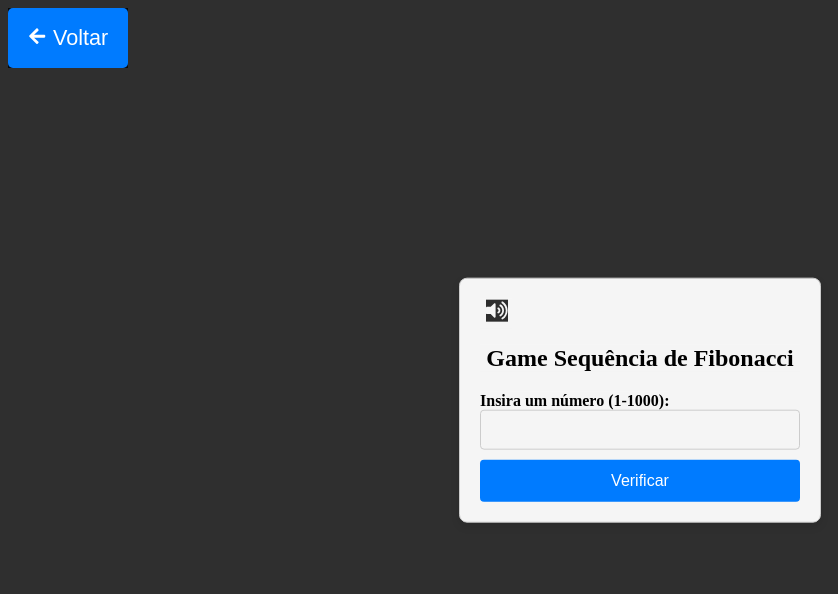
Fibonacci Page › should show the message: O número não está na sequência de fibonacci, when entering an non fibonacci number in the input
The width and height of the screenshot is (838, 594).
Type "15" into the number field labelled "Insira um número (1-1000):" at (640, 429), box [480,409,800,449]
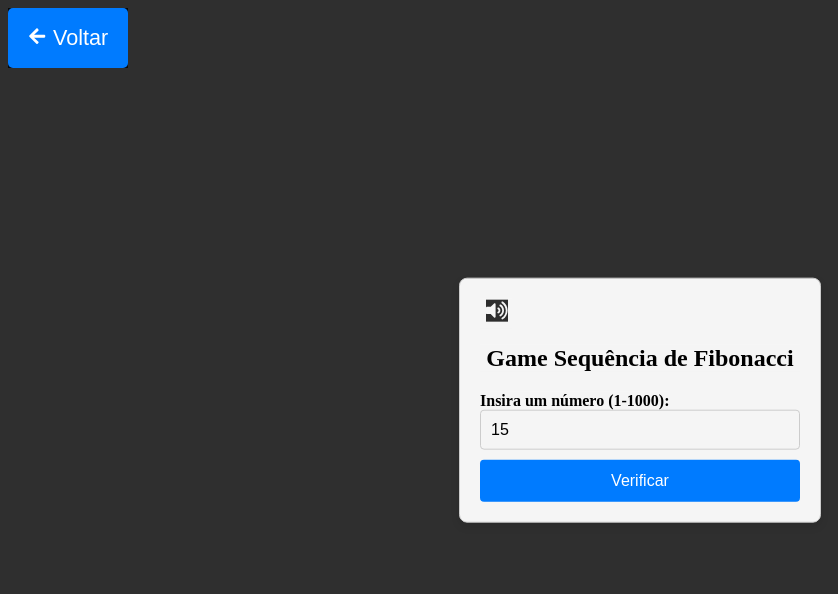
Click the button with test id "send-form" at (640, 480), box [480,459,800,501]
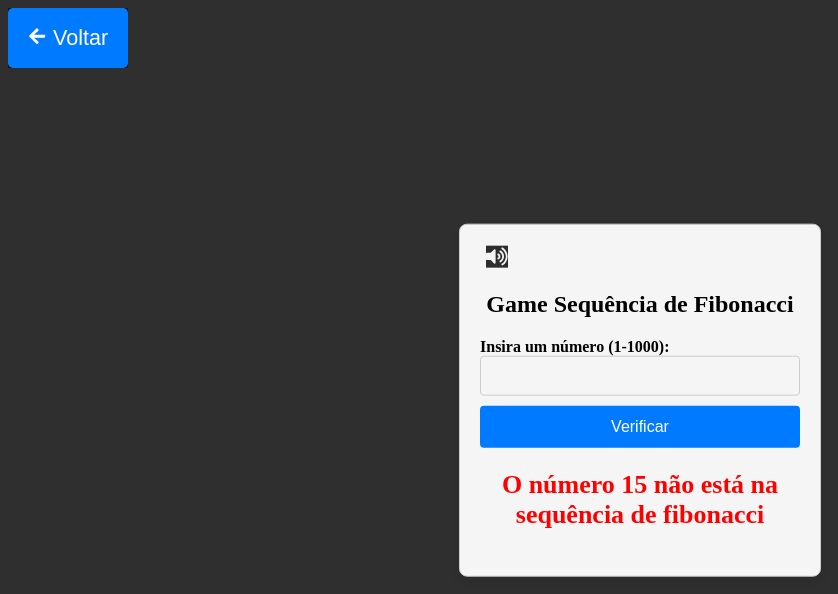
Check: the text with test id "result-text" reads "O número 15 não está na sequência de fibonacci", box [480,469,800,529]
